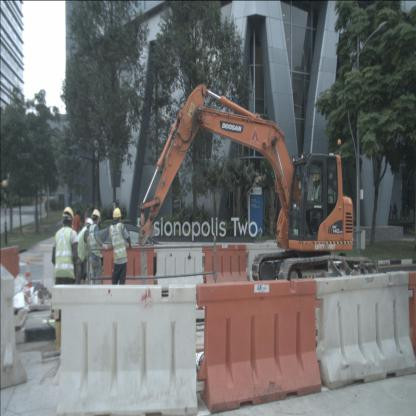human-pedestrian-adult: (73, 209, 82, 252), (84, 205, 92, 243), (392, 201, 398, 222), (389, 205, 392, 221)
movable_object-barrier: (52, 283, 206, 415), (197, 278, 322, 414), (313, 271, 416, 390), (0, 261, 28, 391), (40, 244, 95, 296), (100, 244, 158, 293), (154, 244, 206, 293), (202, 244, 250, 285), (245, 242, 286, 283), (1, 245, 20, 280)
movable_object-trafficcone: (24, 260, 32, 297)
